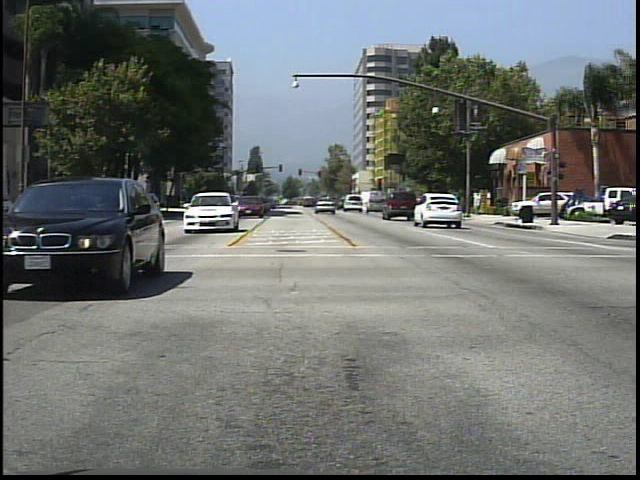person: (435, 191, 452, 222), (473, 191, 485, 219)
